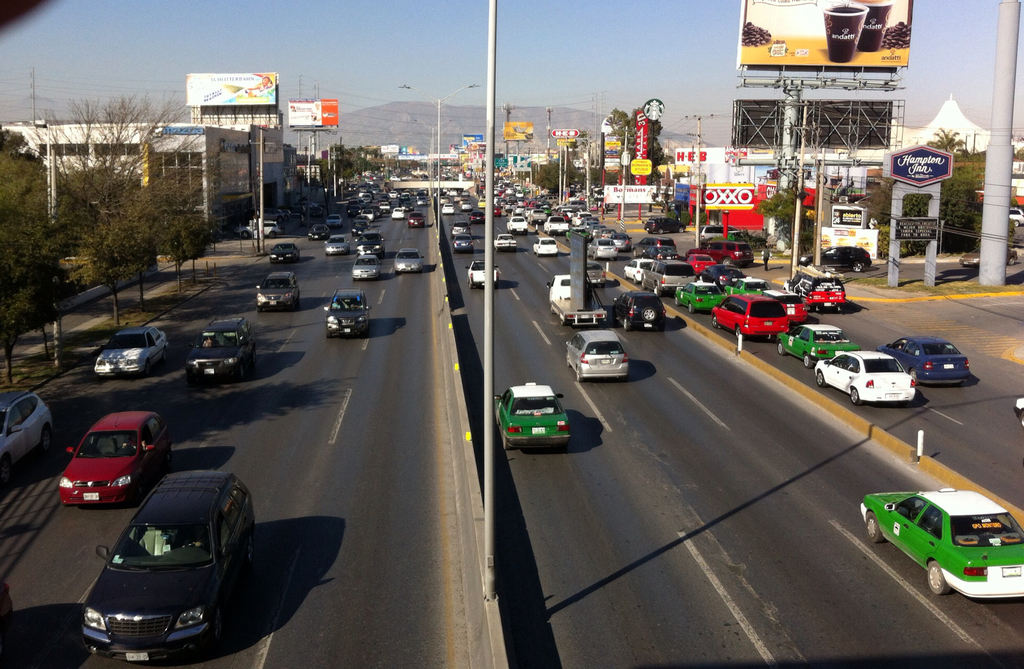Car: (436, 176, 974, 403), (79, 466, 250, 661), (857, 484, 1023, 600), (54, 407, 174, 506), (310, 175, 426, 277), (494, 380, 571, 450), (186, 316, 259, 378), (0, 386, 54, 467), (92, 323, 165, 375), (565, 325, 630, 380), (609, 288, 664, 332), (324, 289, 368, 335), (798, 245, 871, 272), (255, 270, 298, 311), (465, 255, 500, 286), (268, 239, 303, 264), (391, 249, 423, 272), (528, 235, 558, 254), (492, 231, 517, 250)
